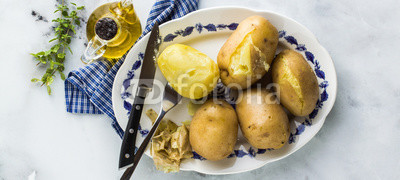boiled potatoes: (223, 17, 278, 88), (269, 49, 320, 115), (238, 90, 289, 153), (162, 44, 217, 95), (194, 100, 236, 164)
